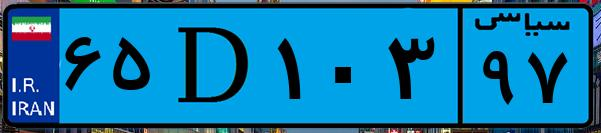0: (330, 28, 385, 110)
1: (270, 28, 330, 110)
3: (385, 28, 445, 110)
5: (110, 28, 158, 98)
6: (57, 26, 110, 100)
7: (525, 38, 570, 115)
9: (475, 38, 525, 113)
D: (158, 12, 270, 120)
